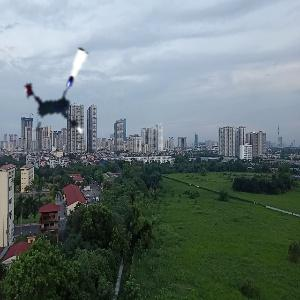drone: (3, 41, 106, 144)
